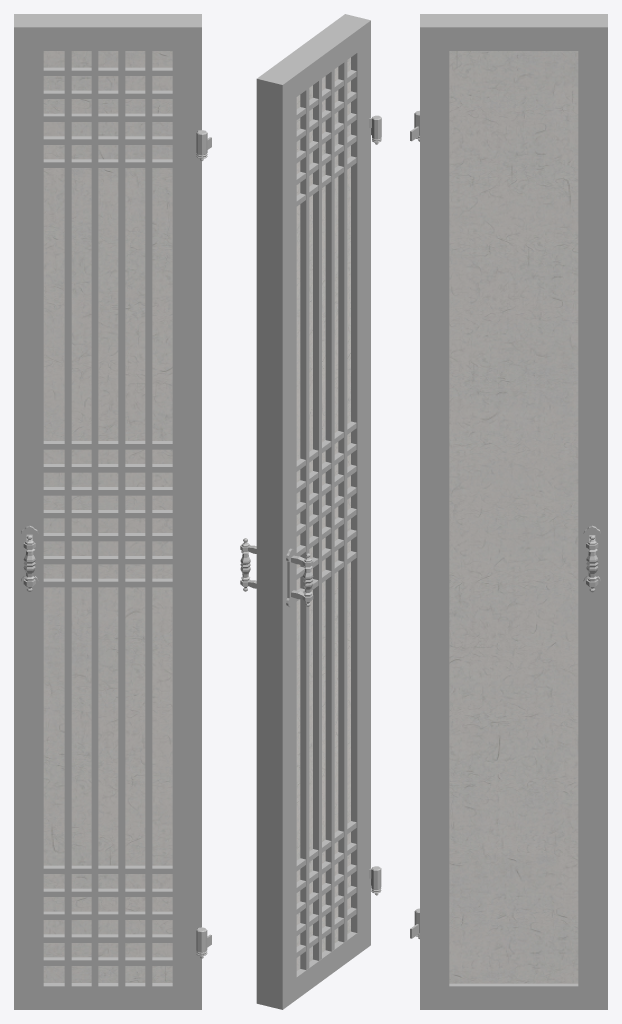
File: SM_GlassDoor01G-b.fbx
3 renders of one model, left to right at view 1: azimuth 90°, elevation 25°; view 2: azimuth 150°, elevation 25°; view 3: azimuth 270°, elevation 25°, orthographic. The views are drawn at different scales.
Parts seen in each view (by area): view 1: SM_GlassDoor01G-b; view 2: SM_GlassDoor01G-b; view 3: SM_GlassDoor01G-b.
Boxes of the visible parts, x1,y1,x2,y2 form: SM_GlassDoor01G-b: (14, 14, 211, 1009); SM_GlassDoor01G-b: (240, 14, 381, 1009); SM_GlassDoor01G-b: (410, 14, 607, 1009).
Size of the model in its own units: 12.81 by 29.42 by 161.
